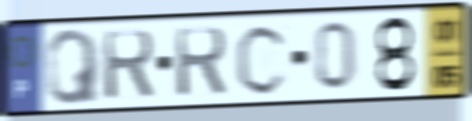0: (312, 18, 360, 94)
8: (374, 14, 417, 94)
C: (234, 21, 291, 98)
Q: (44, 26, 102, 108)
R: (100, 26, 158, 103), (172, 24, 230, 100)
